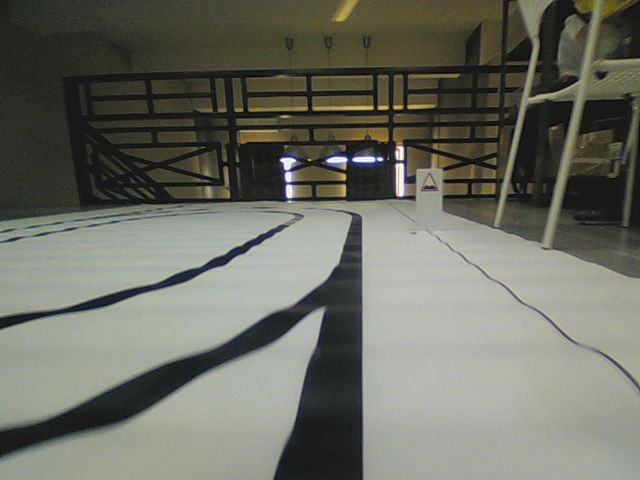Nerov: (418, 170, 439, 193)
